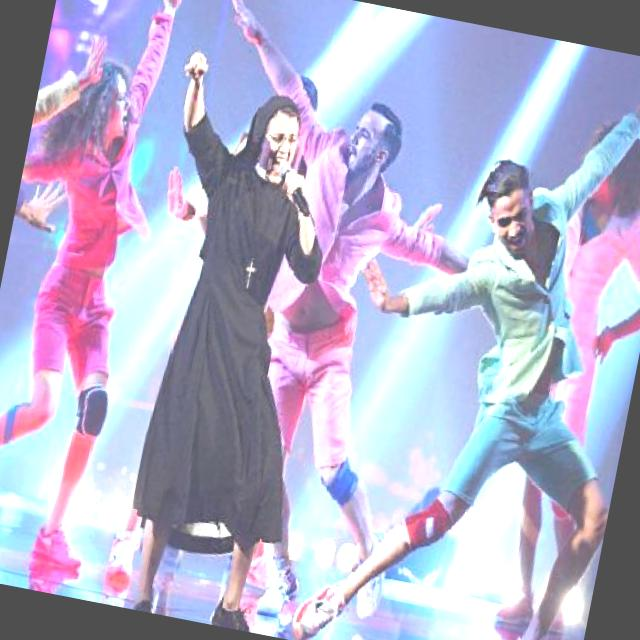Person: (110, 72, 348, 594), (396, 118, 613, 640), (244, 55, 449, 548)
